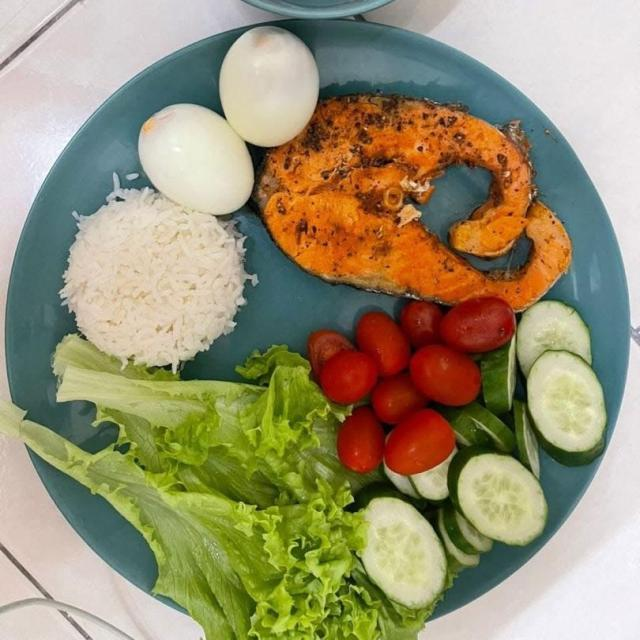Egg: (140, 25, 320, 217)
Fish: (252, 92, 576, 312)
Plate: (288, 24, 627, 431)
Rice: (64, 182, 245, 368)
Vegetables: (0, 295, 609, 639)
